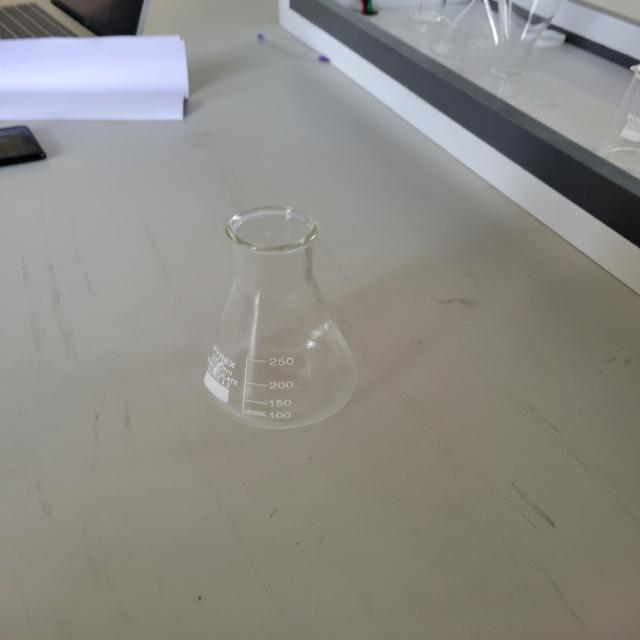Conical_Flask: (159, 188, 409, 460)
